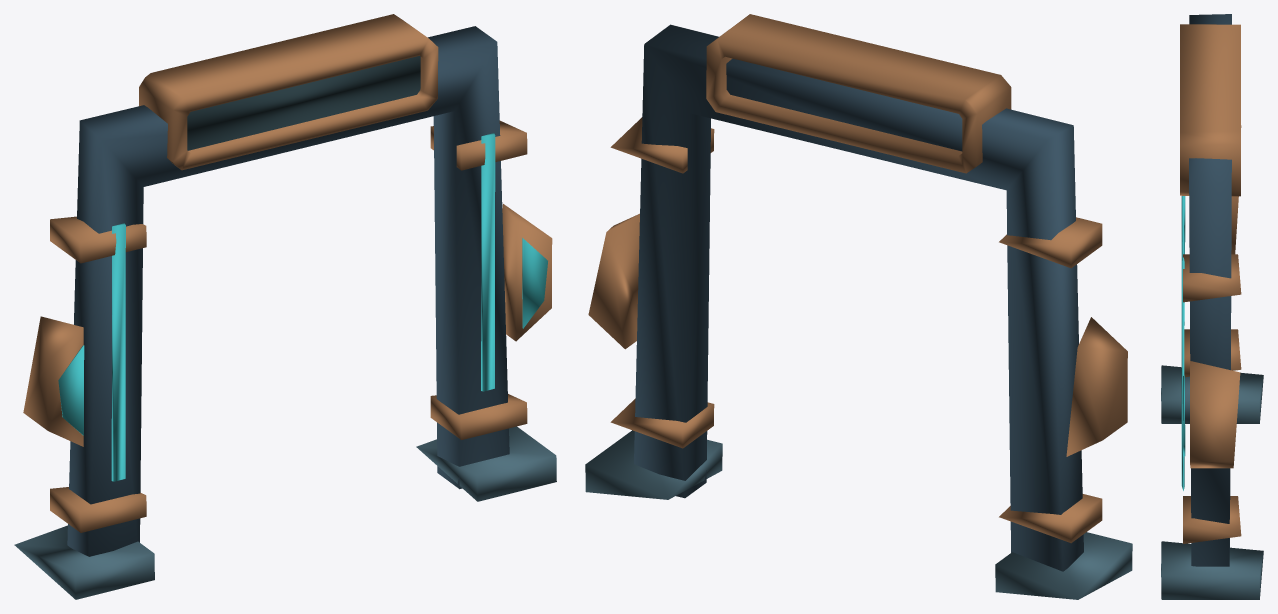
The model's file is STURMBASTION_GATE_FRAME.shadow.glb.
3 views of the same model, side by side, from view 1: azimuth 30°, elevation 25°; view 2: azimuth 150°, elevation 25°; view 3: azimuth 270°, elevation 25° (orthographic). The views are drawn at different scales.
Visible parts, largest first — view 1: STURMBASTION_GATE_FRAME_Geometry; view 2: STURMBASTION_GATE_FRAME_Geometry; view 3: STURMBASTION_GATE_FRAME_Geometry.
Boxes of the visible parts, left/top/right/bottom form: STURMBASTION_GATE_FRAME_Geometry: left=14, top=14, right=556, bottom=599; STURMBASTION_GATE_FRAME_Geometry: left=585, top=14, right=1132, bottom=599; STURMBASTION_GATE_FRAME_Geometry: left=1161, top=14, right=1263, bottom=599.
Bounding box in the file's own units: 3.57 × 3.14 × 0.701.
